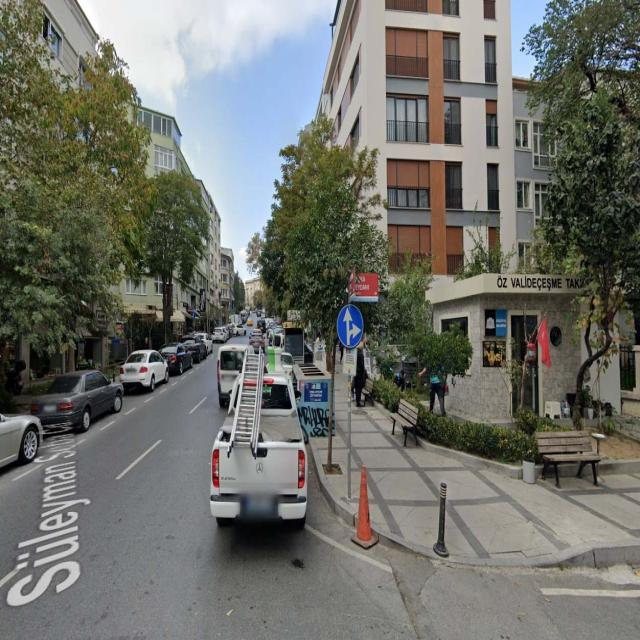ilerisag: (337, 304, 364, 348)
